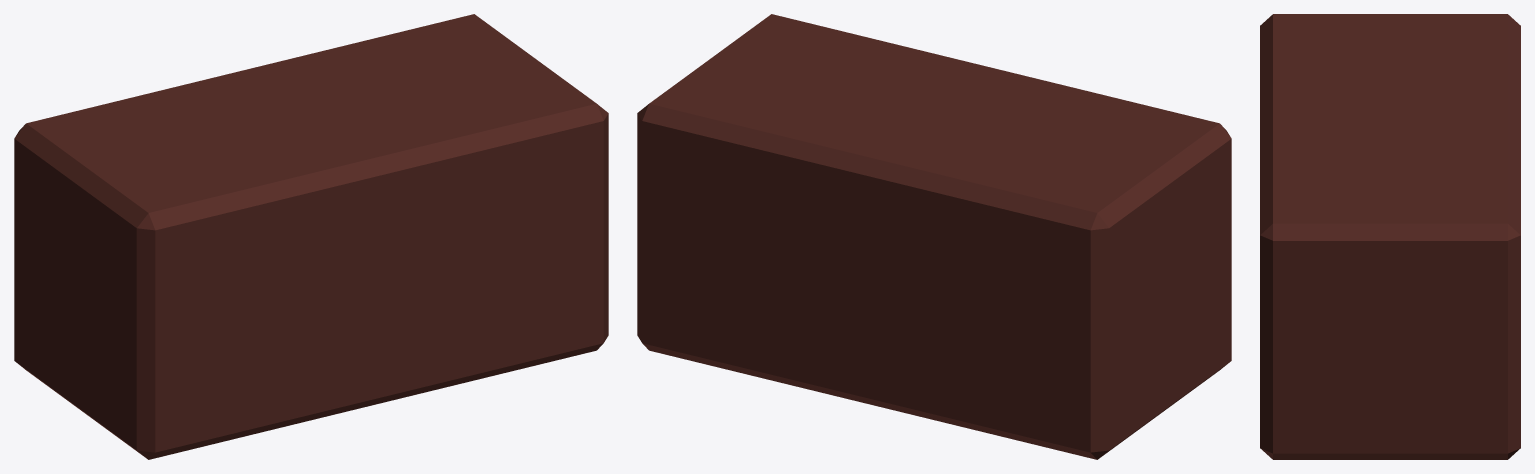
File: brick_4.glb
3 renders of one model, left to right at view 1: azimuth 30°, elevation 25°; view 2: azimuth 150°, elevation 25°; view 3: azimuth 270°, elevation 25°, orthographic. The views are drawn at different scales.
Parts seen in each view (by area): view 1: Cube.004; view 2: Cube.004; view 3: Cube.004.
Boxes of the visible parts, x1=… form: Cube.004: x1=14, y1=14, x2=608, y2=459; Cube.004: x1=637, y1=14, x2=1231, y2=459; Cube.004: x1=1260, y1=14, x2=1520, y2=459.
Bounding box in the file's own units: 0.4 × 0.2 × 0.1999.
